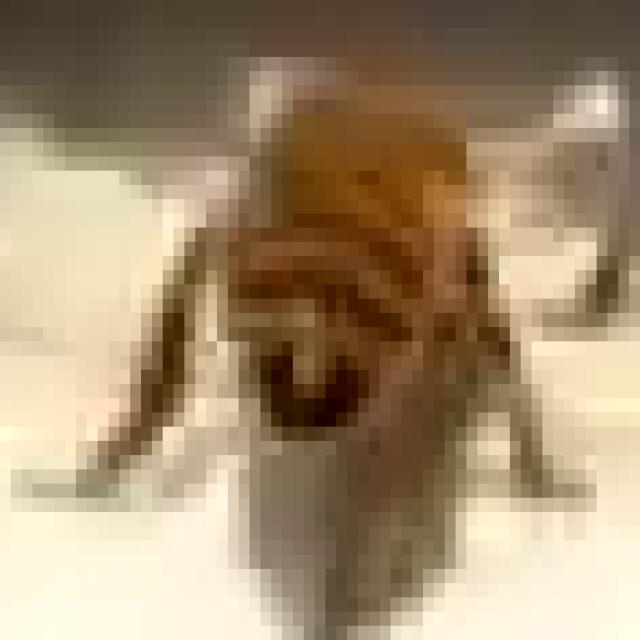honeybee: (138, 96, 492, 518)
